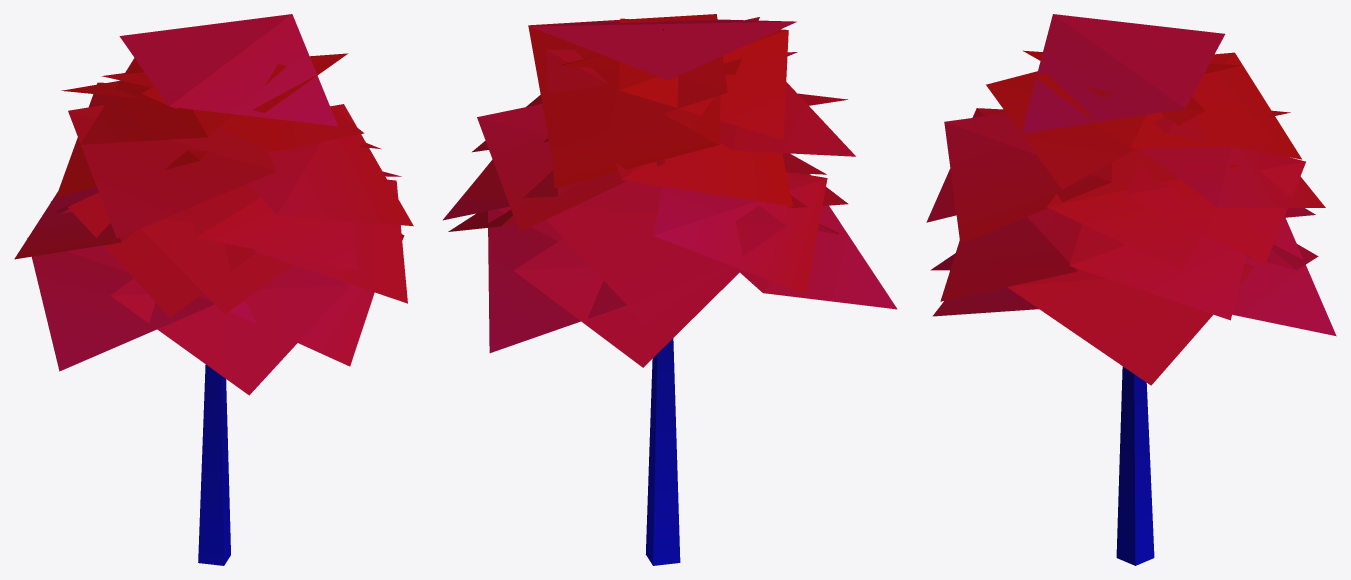
3 views of the same model, side by side, from view 1: azimuth 30°, elevation 25°; view 2: azimuth 150°, elevation 25°; view 3: azimuth 270°, elevation 25° (orthographic). The views are drawn at different scales.
Visible parts, largest first — view 1: 4; view 2: 4; view 3: 4.
Part boxes in pixels (bbox=[...]): 4: bbox=[14, 14, 413, 565]; 4: bbox=[443, 14, 897, 565]; 4: bbox=[926, 14, 1336, 565].
Bounding box in the file's own units: 0.8052 × 1 × 0.7421.
